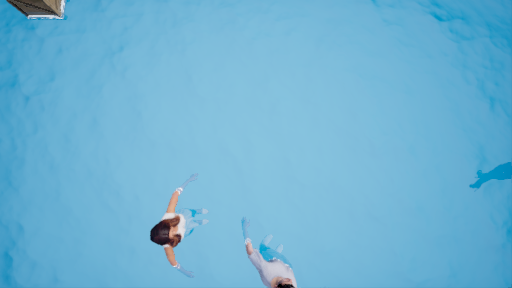person: (158, 176, 216, 269), (236, 215, 305, 288)
